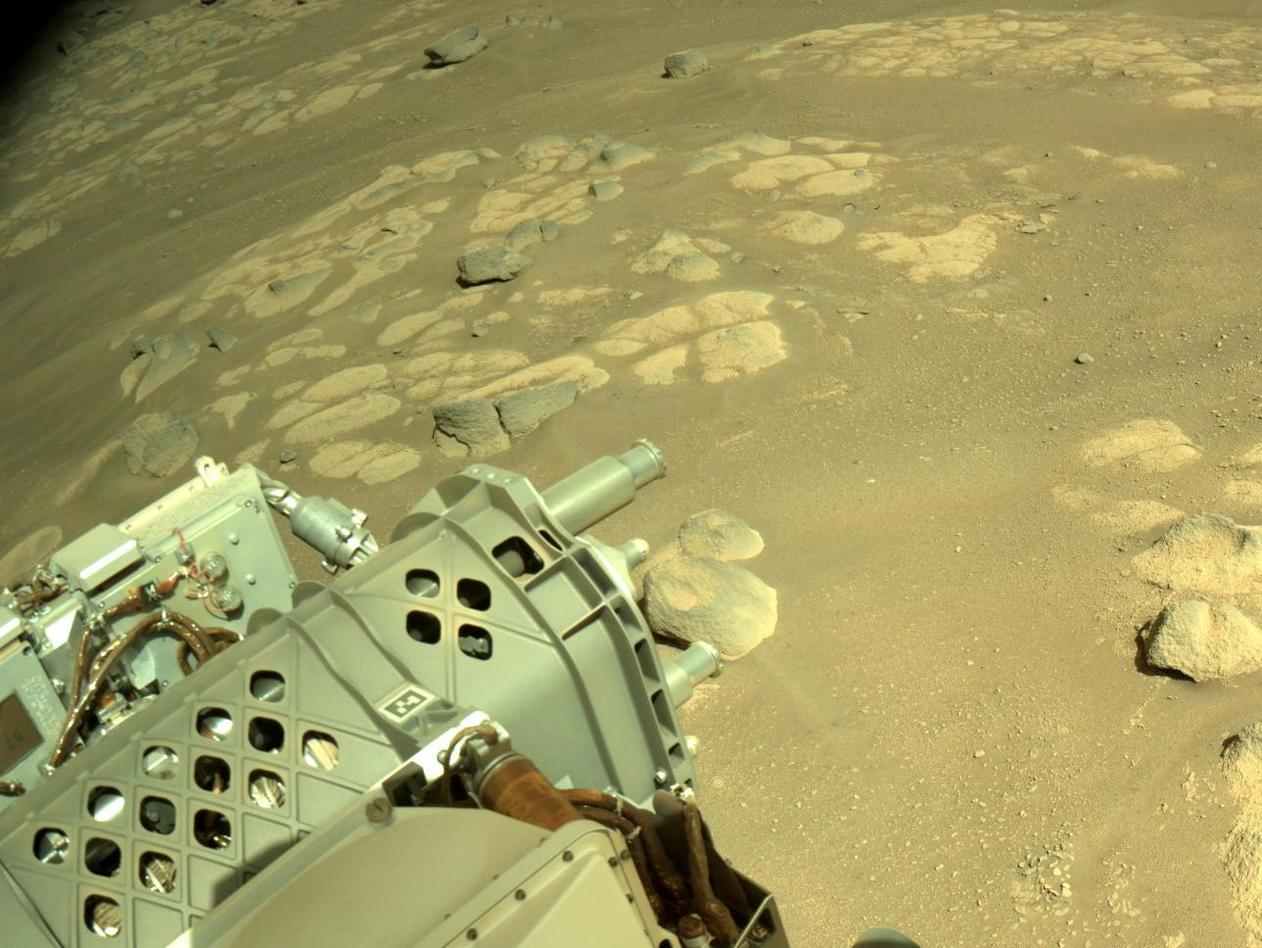bedrock: (4, 4, 1260, 564), (1052, 392, 1259, 940), (922, 929, 1234, 944), (824, 926, 853, 935), (485, 17, 499, 19)
big_rock: (643, 566, 688, 650), (455, 10, 482, 16), (470, 20, 479, 24)
sand: (504, 0, 812, 16), (4, 272, 14, 550)
soil: (327, 217, 1248, 935), (1248, 118, 1258, 391), (1210, 186, 1239, 203)
